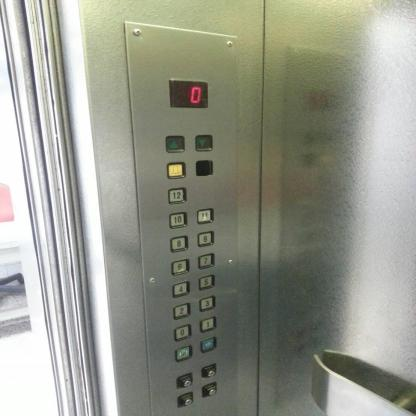0: (173, 324, 191, 341)
1: (199, 315, 216, 333)
10: (169, 210, 187, 228)
11: (196, 207, 213, 224)
12: (168, 187, 186, 204)
2: (173, 302, 190, 320)
3: (198, 295, 215, 312)
4: (171, 281, 189, 298)
5: (199, 274, 215, 290)
6: (171, 258, 189, 276)
7: (198, 253, 214, 270)
8: (170, 235, 187, 253)
9: (197, 230, 214, 248)
alarm: (165, 161, 186, 179)
close: (173, 344, 192, 362)
down: (194, 134, 213, 150)
empty: (194, 159, 213, 176)
keyhole: (177, 390, 193, 408), (176, 371, 192, 388), (201, 362, 216, 380), (202, 380, 217, 398)
led: (170, 80, 209, 110)
open: (201, 335, 217, 354)
up: (164, 135, 185, 152)
